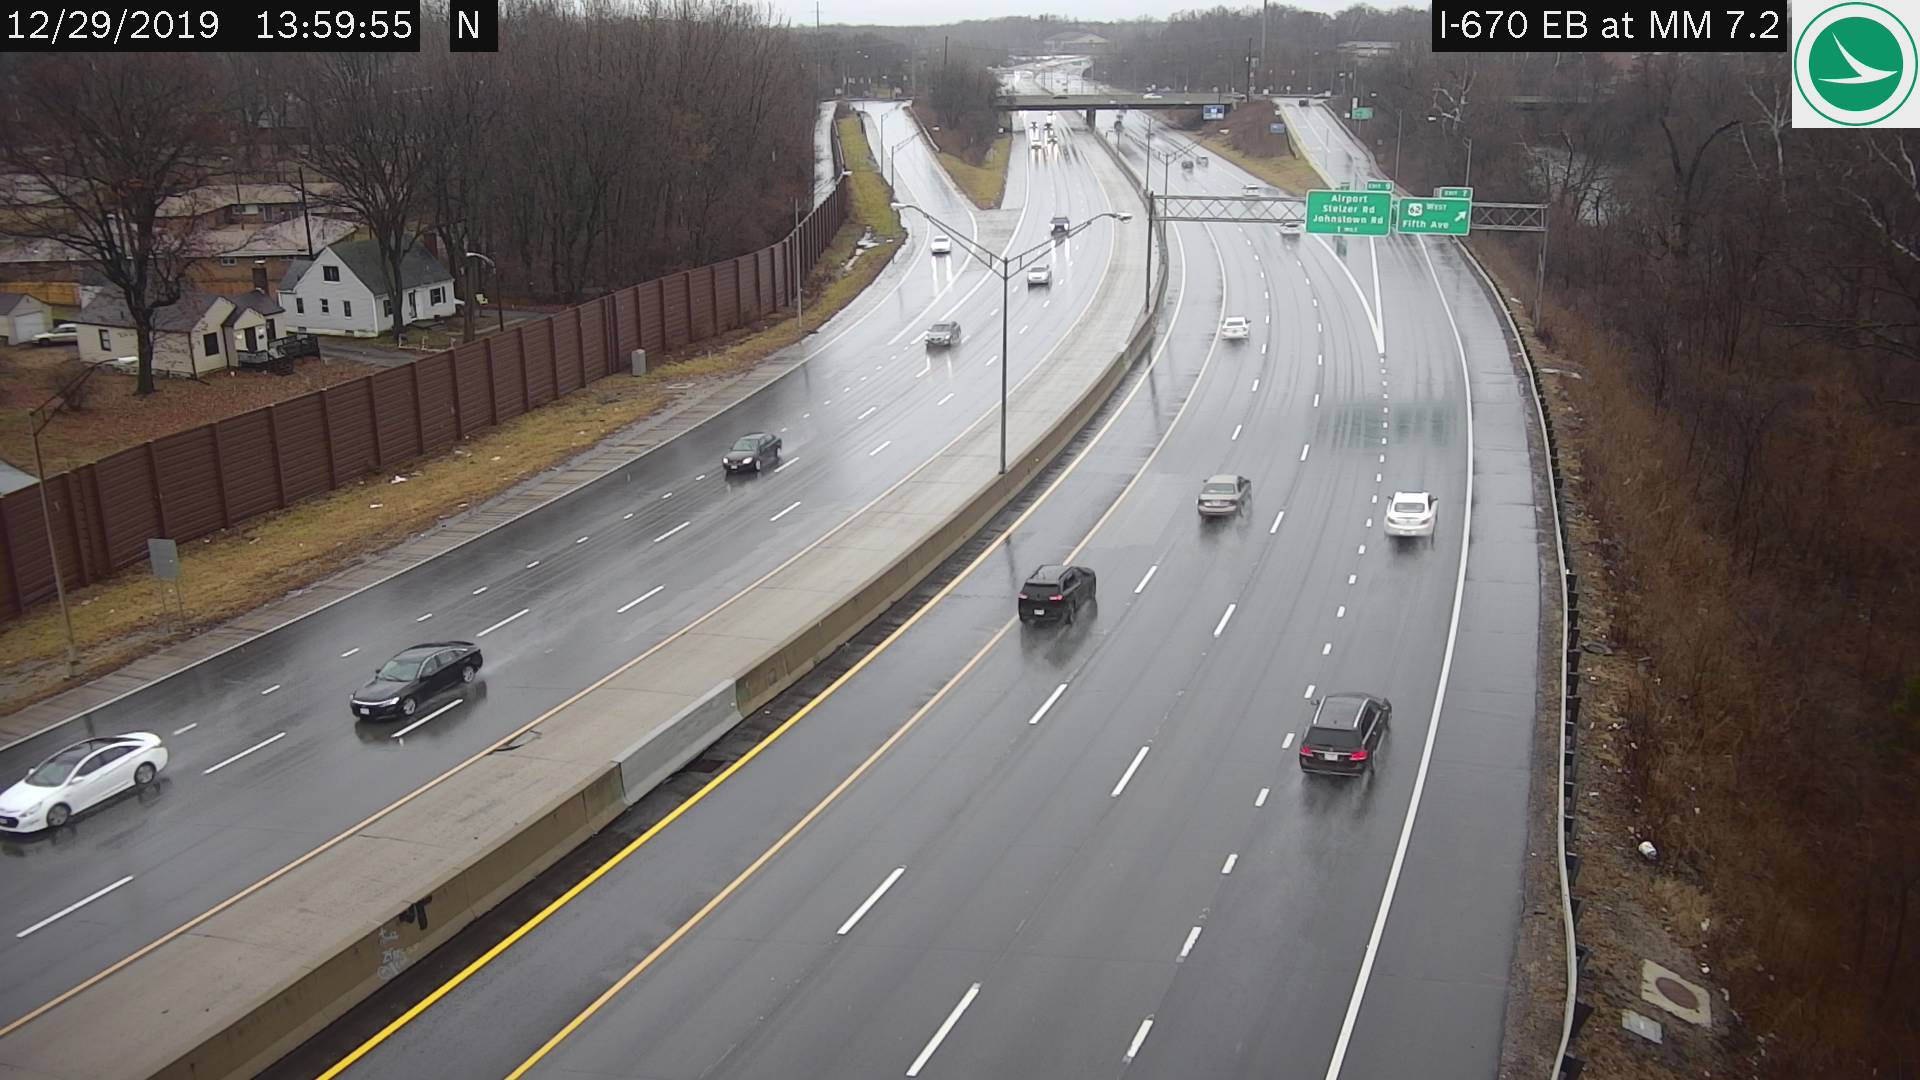car: (7, 732, 166, 836), (353, 640, 483, 724), (1298, 688, 1394, 785), (1018, 560, 1095, 632), (1382, 488, 1443, 535), (727, 433, 782, 476), (1197, 472, 1250, 516), (922, 316, 957, 356), (1222, 313, 1246, 340), (1026, 260, 1050, 284), (930, 232, 949, 252), (1050, 216, 1065, 232)
